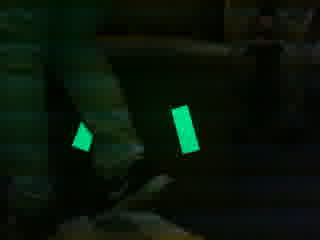target: (71, 104, 201, 154)
